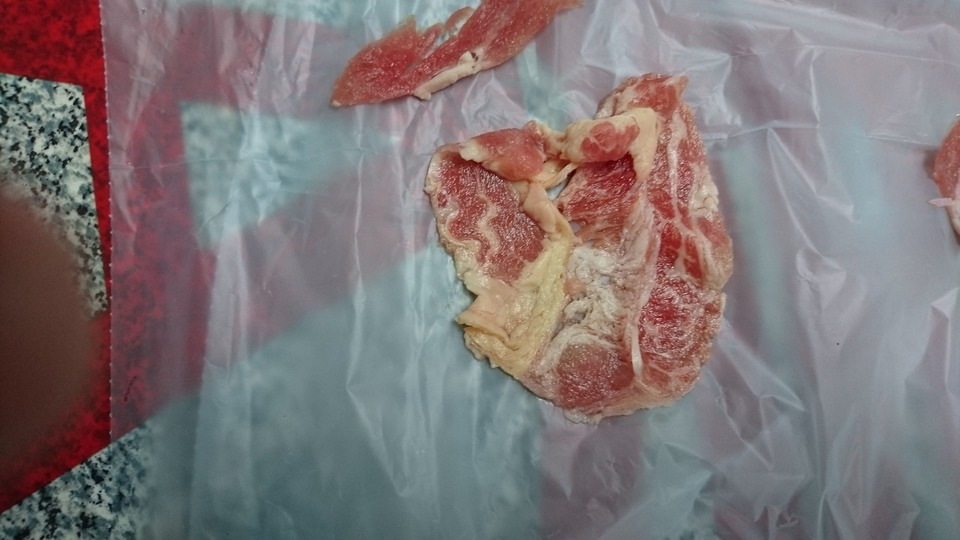restructured meat: (408, 107, 735, 426)
